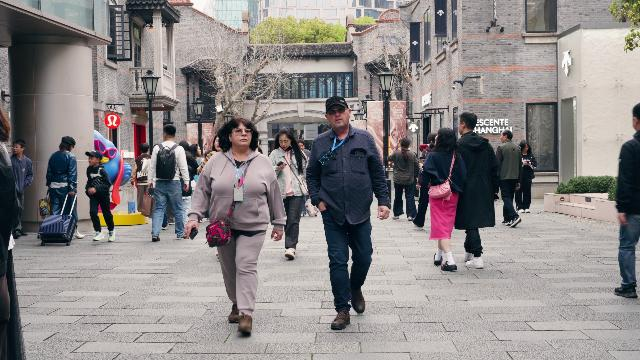person: (306, 96, 392, 330), (200, 111, 281, 338), (453, 112, 500, 269), (419, 127, 468, 272), (268, 128, 312, 260), (146, 124, 190, 242), (614, 103, 640, 299), (45, 136, 85, 240), (84, 149, 116, 242), (387, 137, 419, 222), (496, 129, 522, 228), (9, 139, 34, 239), (176, 139, 199, 230), (515, 139, 538, 214), (130, 142, 152, 216), (412, 152, 431, 231), (297, 139, 310, 217), (418, 132, 439, 158)
